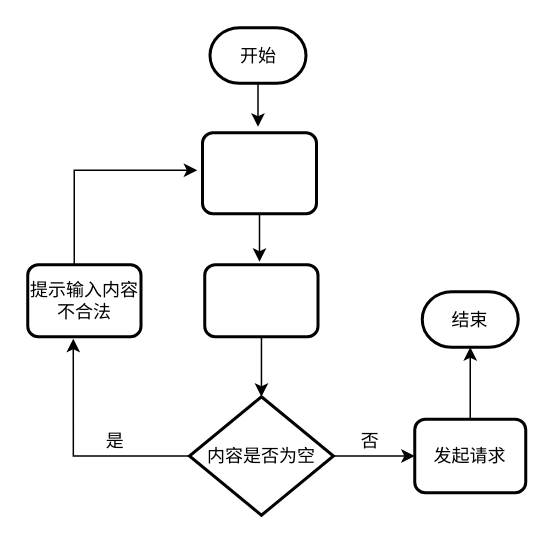
This 552x542 diagram has some shape labels left out. The shapes that lost their labels are listed below. From the top down, each one's centre as x and y in pixels, then its label:
At (258,172): "输入关键字".
At (260,300): "搜索".
